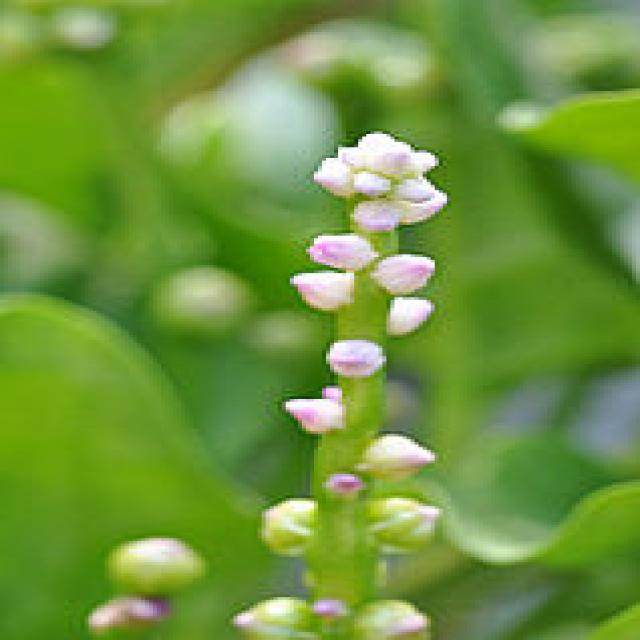Medicinal-Basale: (67, 47, 559, 640)
